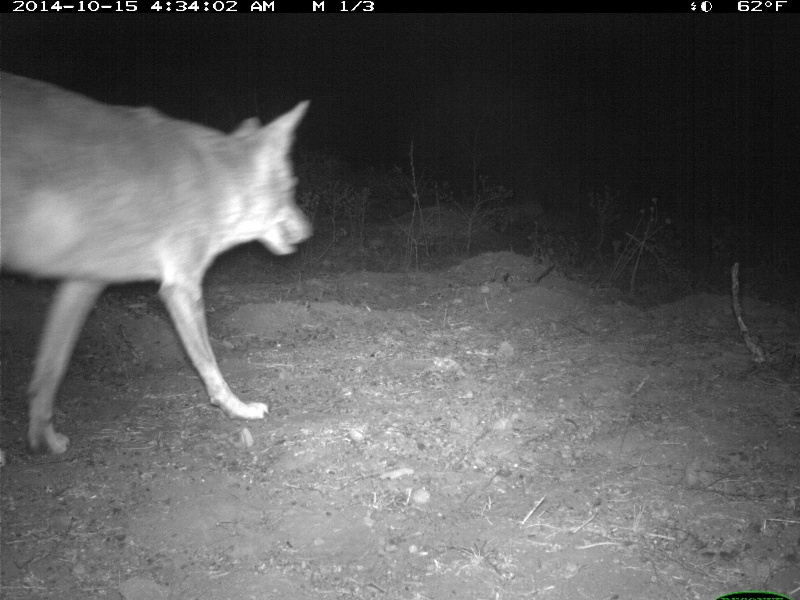coyote: (1, 68, 316, 469)
